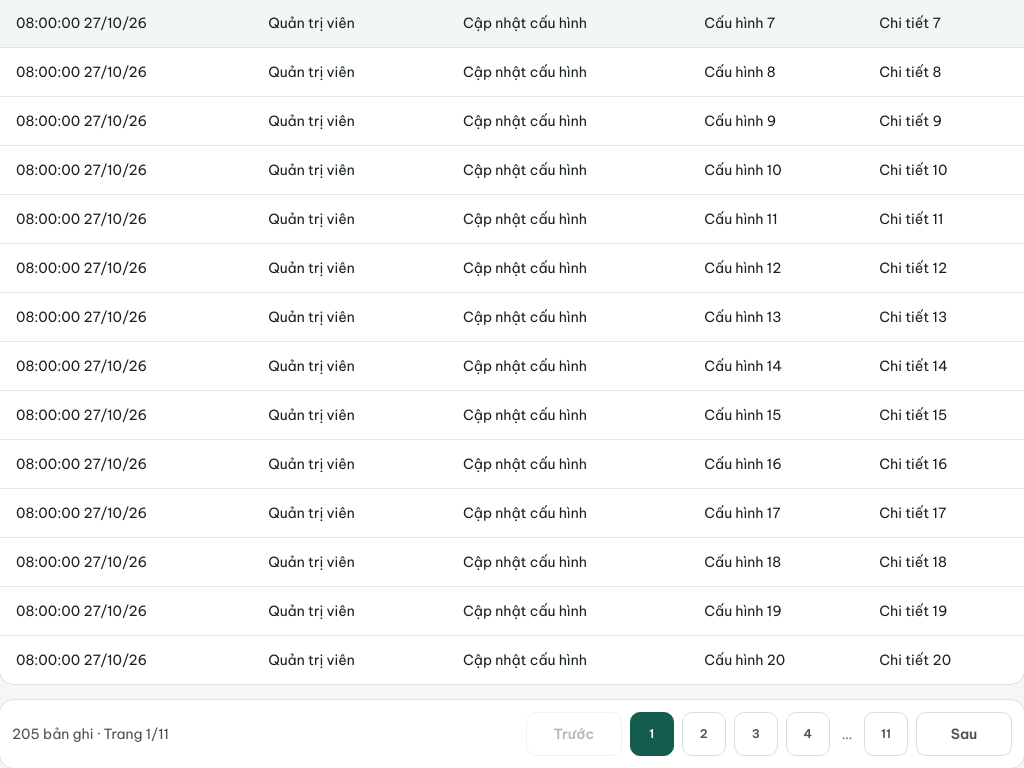
it: AdminAuditLogs pagination › hiển thị dấu ba chấm, trang đầu/cuối và làm nổi bật trang đang chọn
(page scrolled)
Expected: the text "205 bản ghi · Trang 1/11" is shown, [12,724,169,744]
Expected: the button named "Trang 1" is shown, [630,712,674,756]
Click the button named "Trang 4" at (808, 734), box [786,712,830,756]
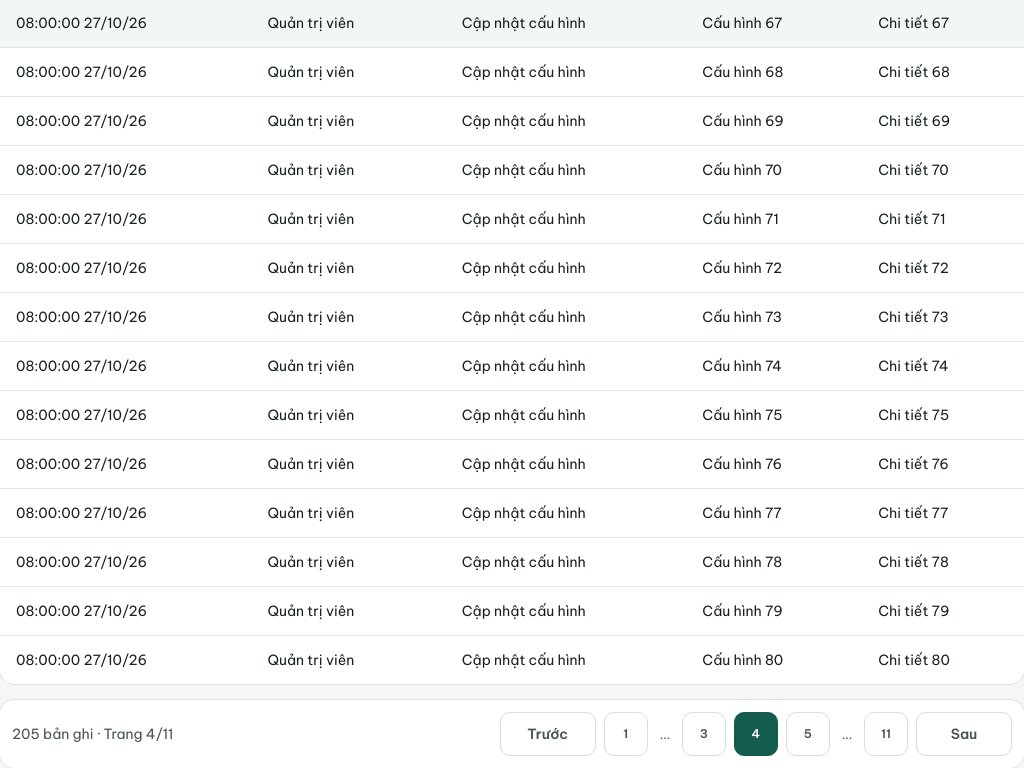
Result: the text "205 bản ghi · Trang 4/11" is shown at [12,724,174,744]
Result: the text "…" is shown 2 times at [660,725,670,743]; [842,725,852,743]
